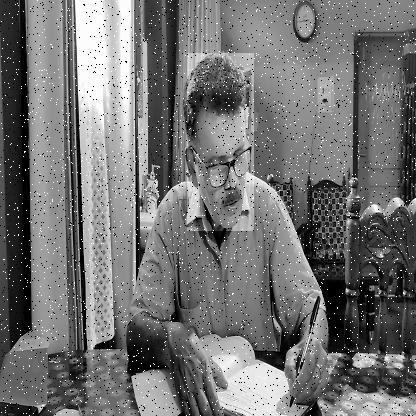Normal: (187, 53, 254, 231)
